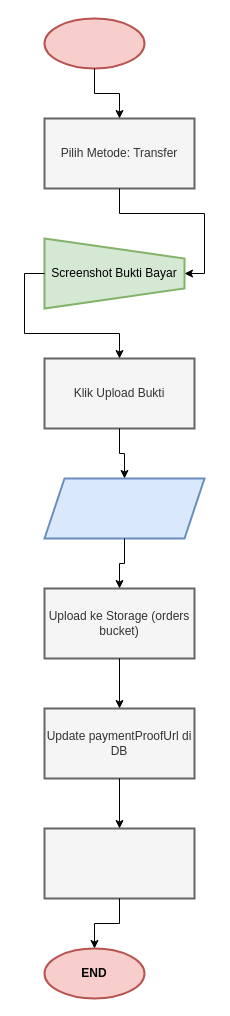
This 230x1016 diagram has some shape labels left out. The shapes that lost their labels are listed below. From the top down, each one's centre as x and y in pixels, then its label:
[94,43]: START
[124,508]: Pick Image dari Galeri
[119,863]: Status: Menunggu Konfirmasi
